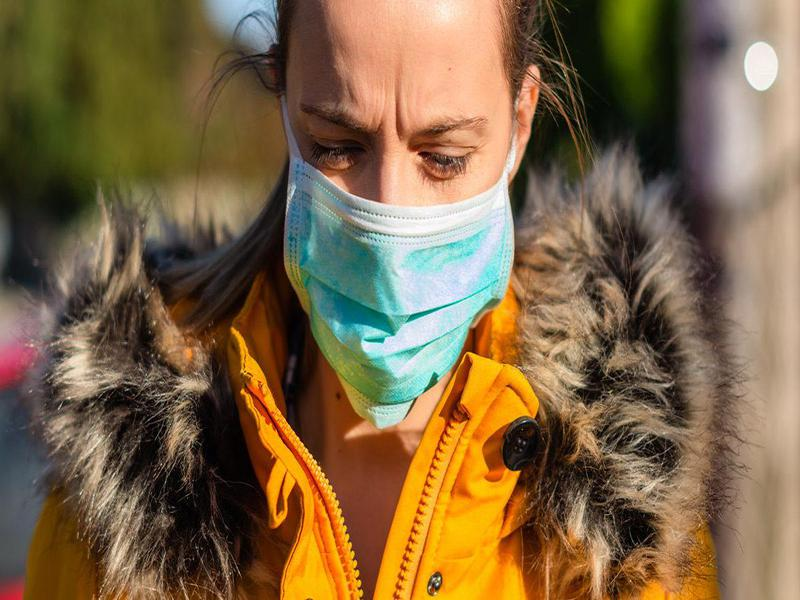with_mask: (279, 1, 521, 409)
